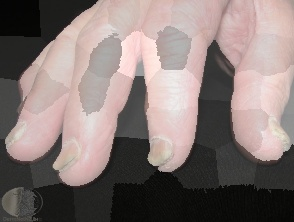Nail_psoriasis: (49, 133, 90, 182), (262, 111, 294, 156), (0, 116, 35, 155), (143, 134, 177, 172)
